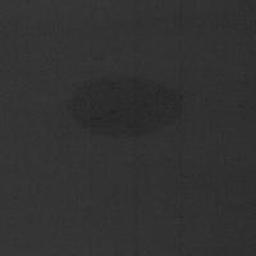Oil spot: (61, 73, 184, 140)
